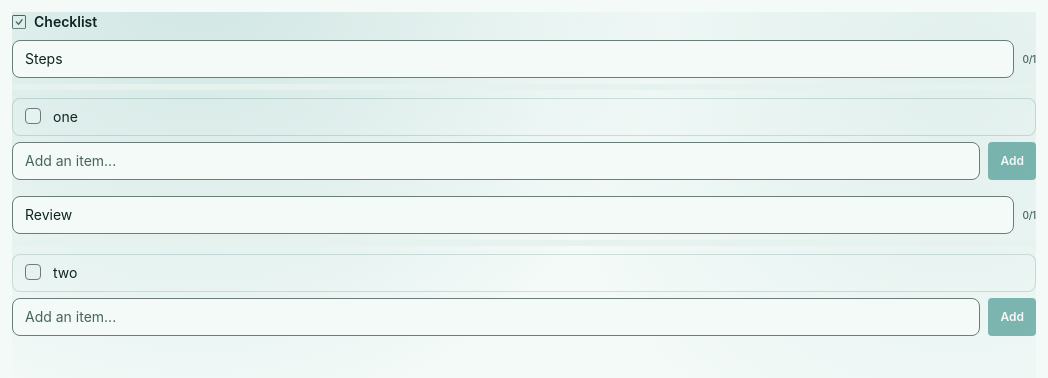
checklist title validation › clears the error and resumes saving once the title is valid again
Clear the 1st field showing "Steps" at (513, 59), box [12,40,1014,78]
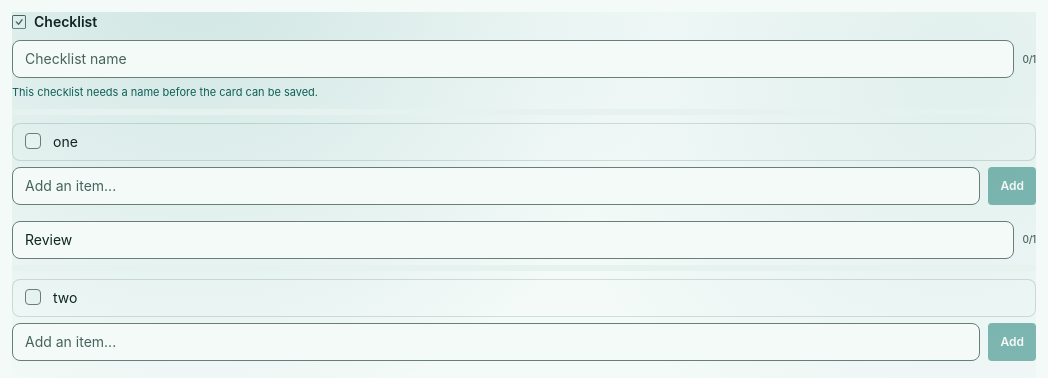
Type "S" into the field showing "Steps" at (513, 59), box [12,40,1014,78]
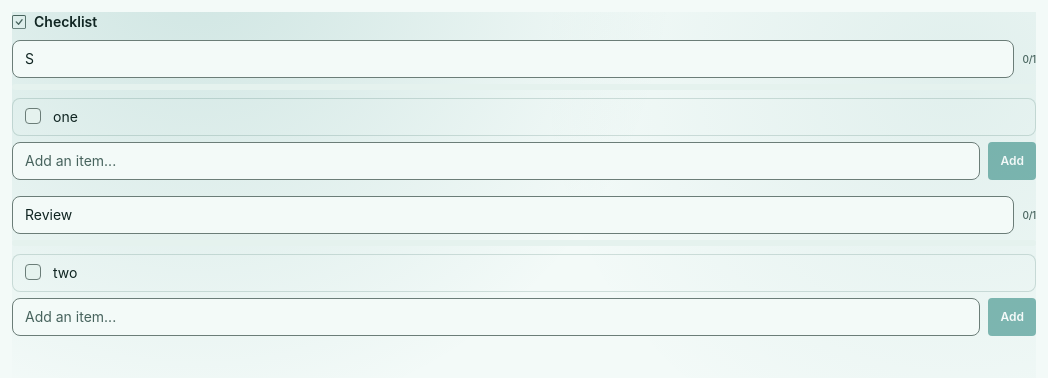
expect the message "This checklist needs a name before the card can be saved." is gone: met
